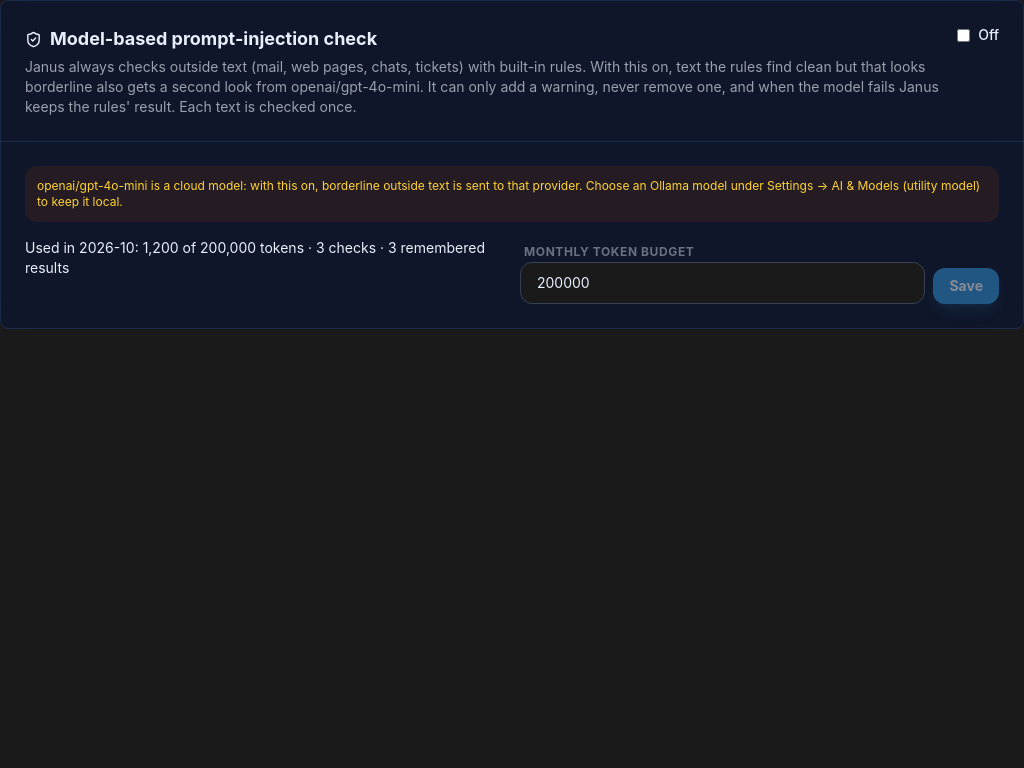
it: InjectionClassifierCard › warns before sending text to a cloud model and does nothing when cancelled
Later steps or results of the test are not shown.
Click the checkbox named "Model-based prompt-injection check" at (964, 35), box [957,28,970,42]
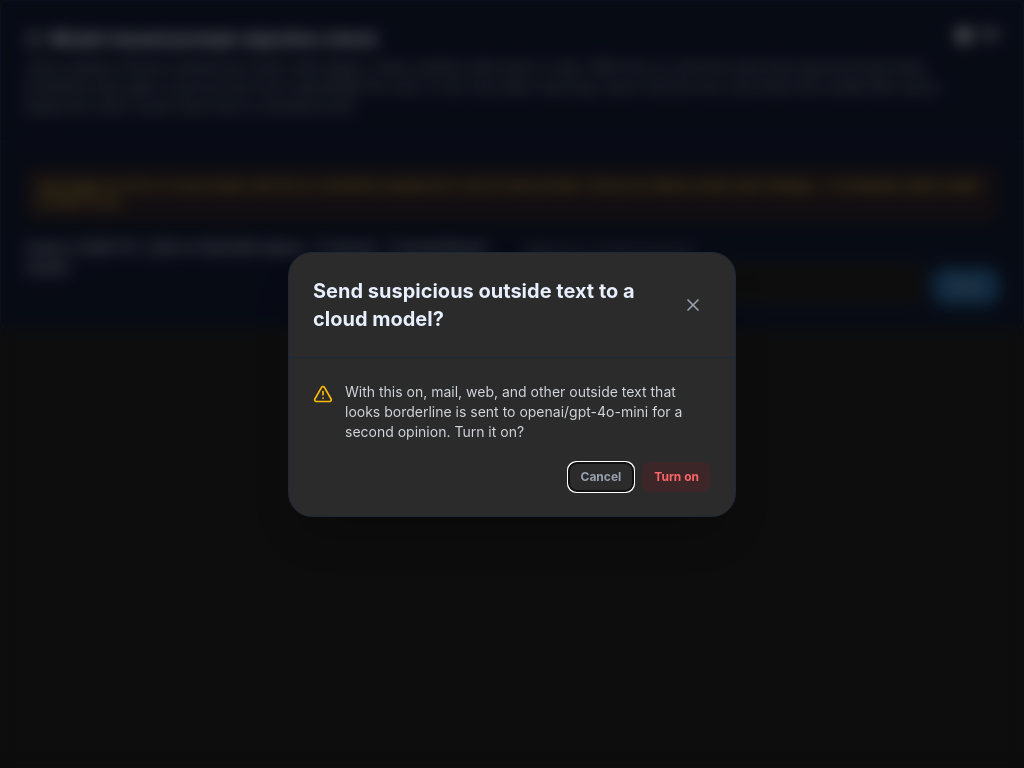
Check: the dialog is shown, box [288,252,736,516]
